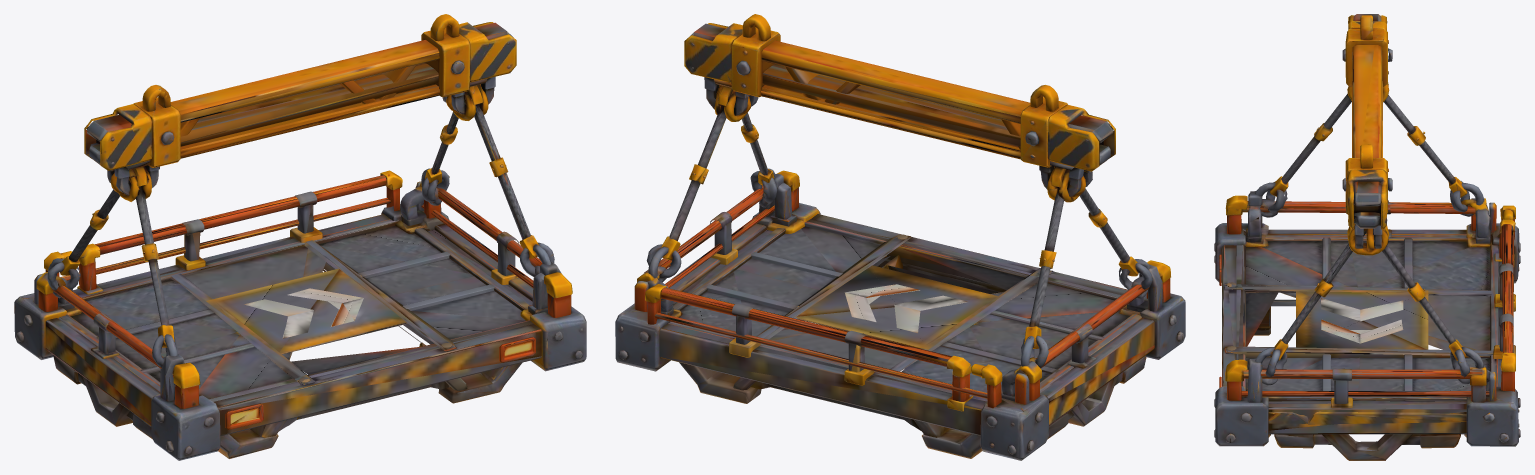
Rendered from suspended_platform.glb.
The picture shows the model from 3 angles, left to right: view 1: azimuth 30°, elevation 25°; view 2: azimuth 150°, elevation 25°; view 3: azimuth 270°, elevation 25°; orthographic projection. The views are drawn at different scales.
Size of what is drawn, in the model's own units: 1.35 by 1 by 0.9343.
1 material, 1 textured.
